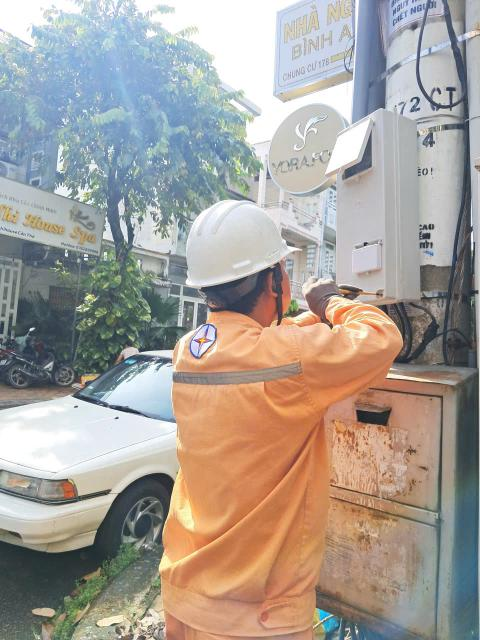gloves: (298, 267, 340, 317)
helmet: (163, 205, 308, 288)
